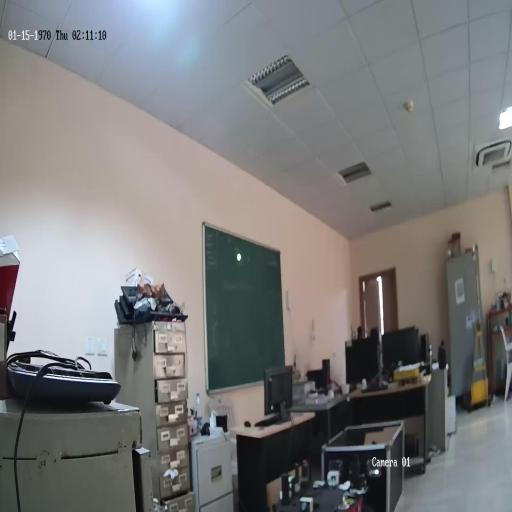laser: (236, 252, 242, 261)
